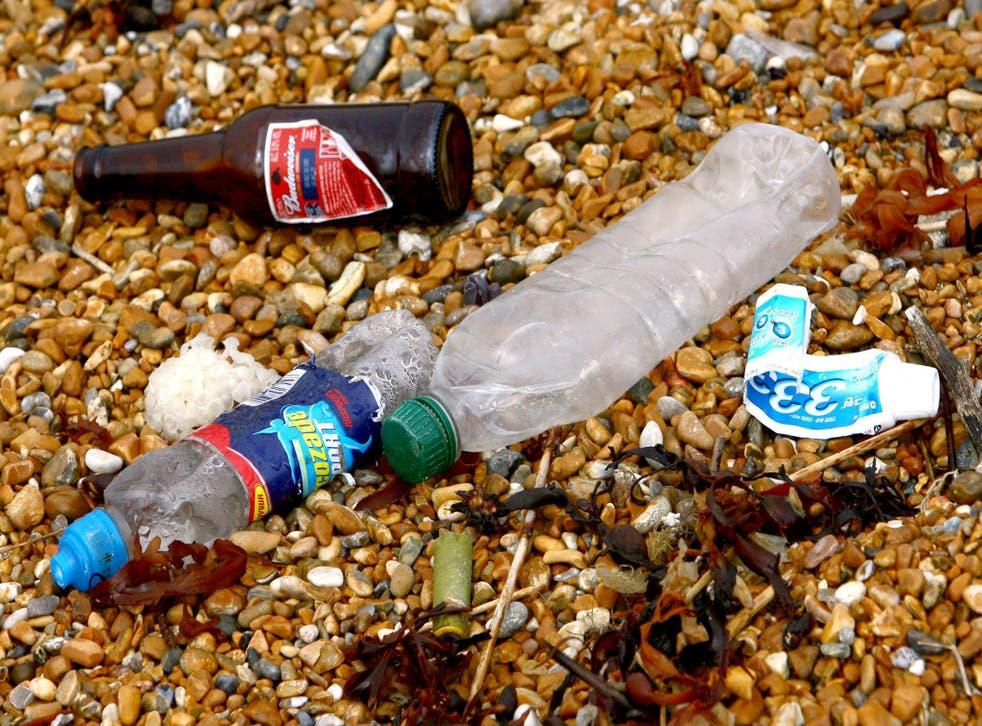Glass: (67, 89, 473, 227)
Plastic: (380, 119, 842, 485), (43, 295, 442, 596), (741, 282, 942, 442)
